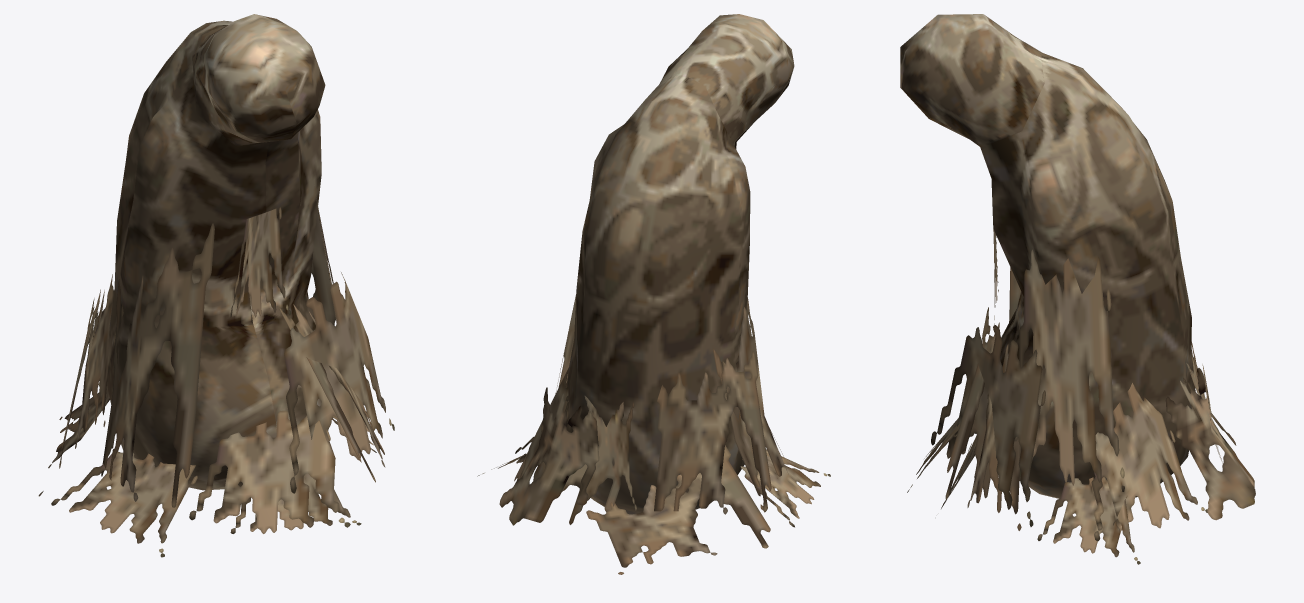
Rendered from webbed_victim12_c1bcddf8.glb.
3 renders of one model, left to right at view 1: azimuth 30°, elevation 25°; view 2: azimuth 150°, elevation 25°; view 3: azimuth 270°, elevation 25°, orthographic. The views are drawn at different scales.
Size of the model in its own units: 1.36 by 1.71 by 1.32.
1 material, 1 textured.
